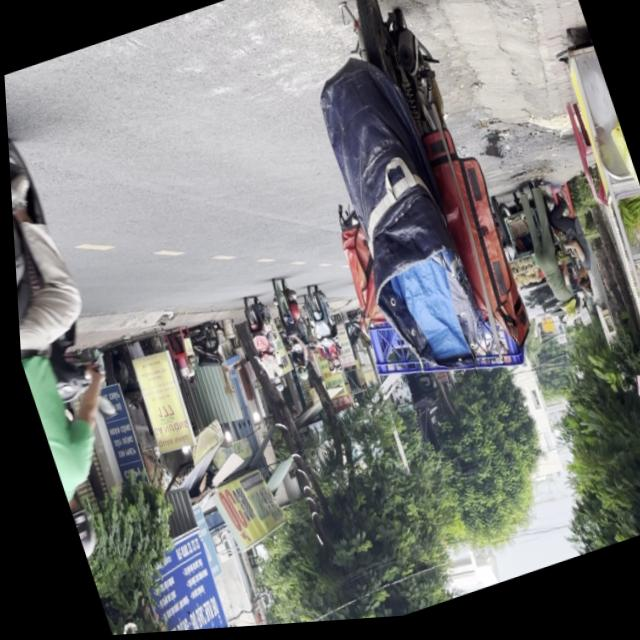helmet: (60, 493, 96, 563)
licenseplate: (4, 77, 159, 563)
